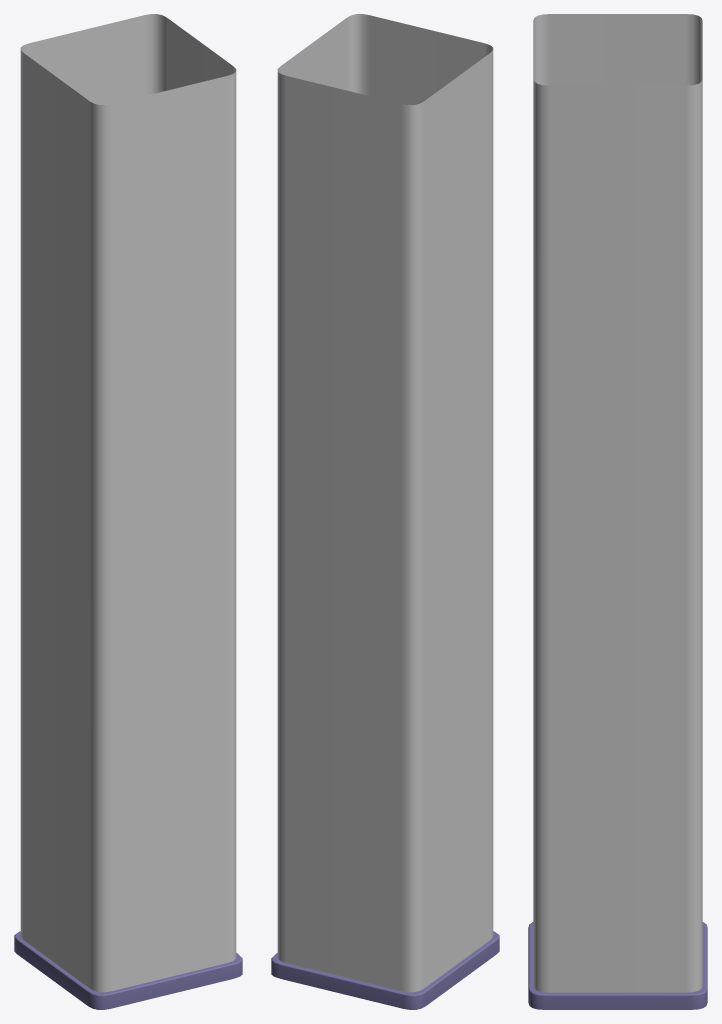
Rendered from Pillar.FBX.
The picture shows the model from 3 angles, left to right: view 1: azimuth 30°, elevation 25°; view 2: azimuth 150°, elevation 25°; view 3: azimuth 270°, elevation 25°; orthographic projection. The views are drawn at different scales.
Parts seen in each view (by area): view 1: Pillar; view 2: Pillar; view 3: Pillar.
Boxes of the visible parts, x1=… form: Pillar: x1=14, y1=14, x2=242, y2=1009; Pillar: x1=271, y1=14, x2=499, y2=1009; Pillar: x1=528, y1=14, x2=707, y2=1009.
Size of the model in its own units: 52.83 by 300 by 52.83.
